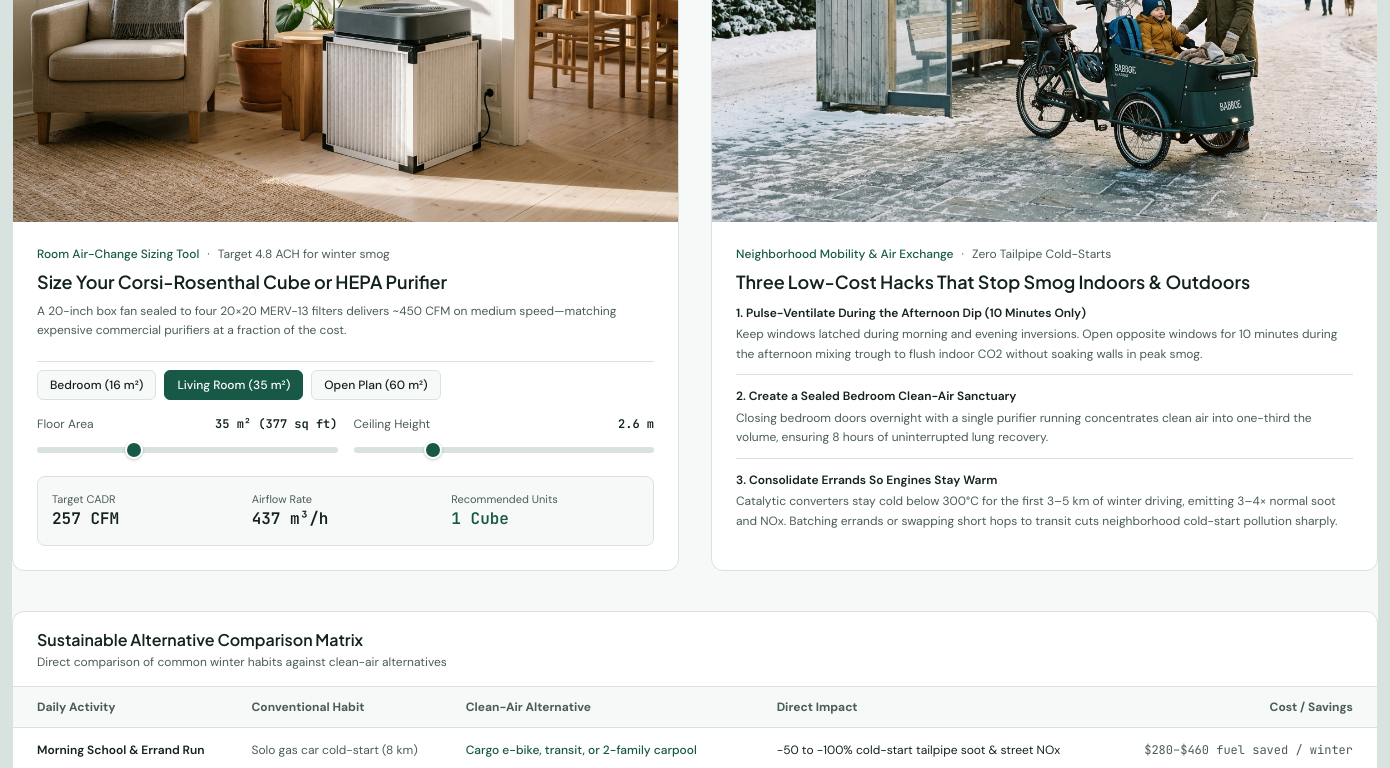
VinterKlar UI Components & Accessibility › IndoorLabSection updates CADR math via room presets and sliders and renders accessible table semantics
(page scrolled)
Click the button "Open Plan (60 m²)" at [376, 385], box x1=311 y1=370 x2=441 y2=400
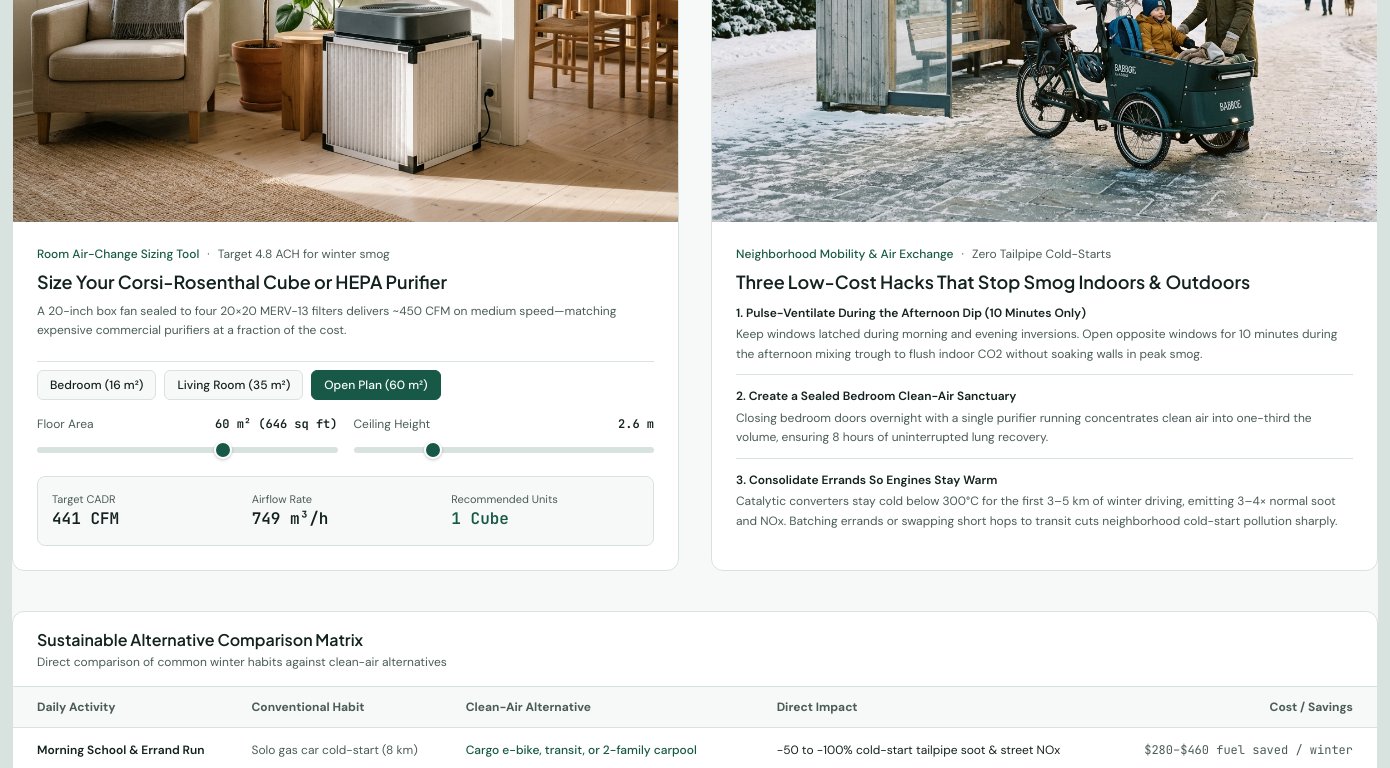
expect the button "Open Plan (60 m²)" is pressed: met, box x1=311 y1=370 x2=441 y2=400
Set the slider labelled "Floor Area" to "85" at [312, 450], box x1=37 y1=447 x2=338 y2=453
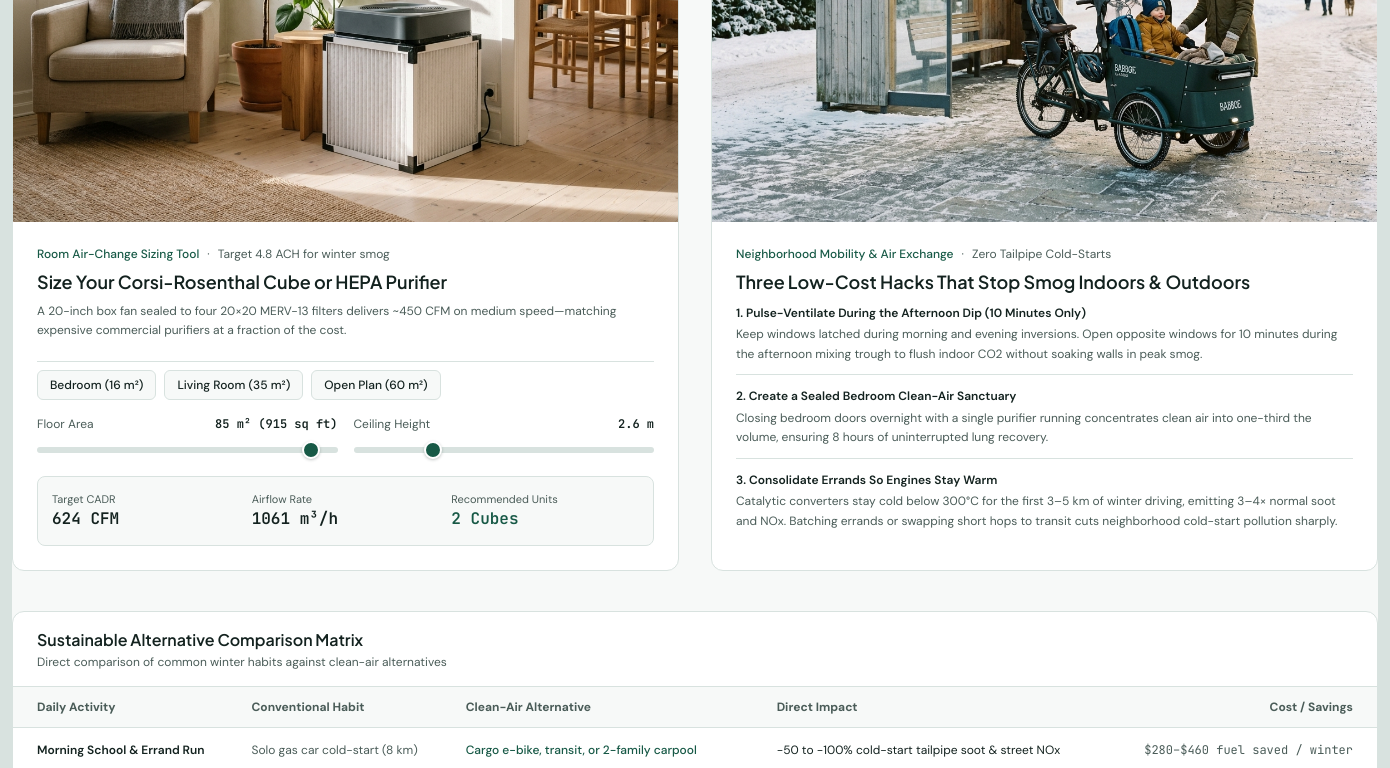
expect the text "2 Cubes" is shown: met, box x1=451 y1=508 x2=518 y2=529
